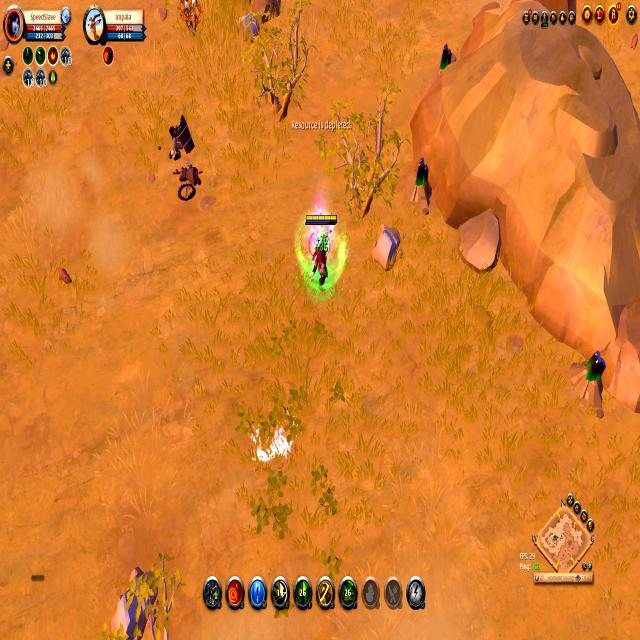hide: (177, 0, 202, 39)
ore: (164, 114, 196, 166), (304, 220, 336, 262)
player: (568, 342, 614, 413), (408, 153, 435, 214), (434, 39, 456, 72)
red: (305, 213, 338, 291)
